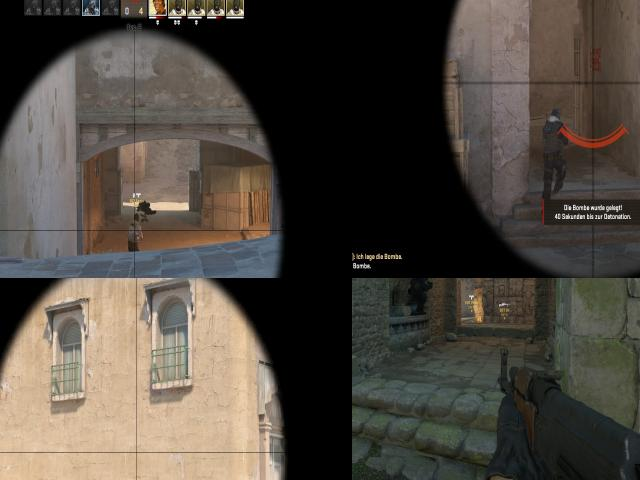CT: (542, 108, 565, 194), (410, 278, 433, 317)
CT-Head: (550, 108, 562, 120), (417, 278, 428, 281)
Dead: (137, 199, 156, 211)
T: (127, 212, 143, 251)
T-Head: (134, 213, 140, 221)
